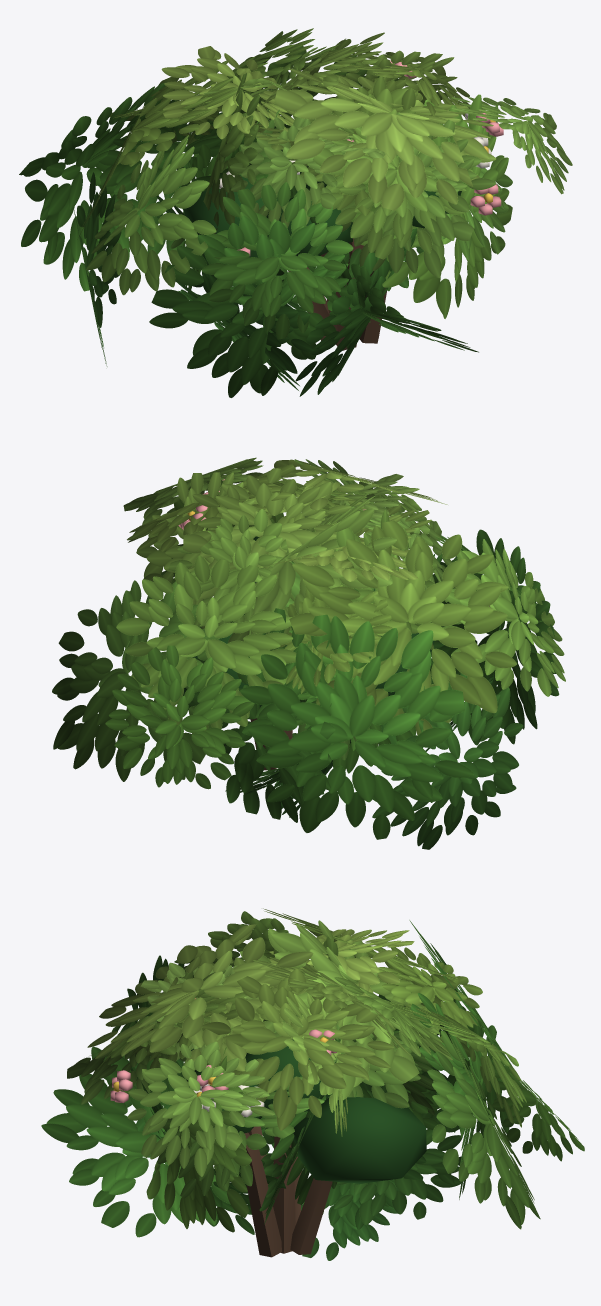
The model's file is bush_lod1.gltf.
3 views of the same model, one above another, from view 1: azimuth 30°, elevation 25°; view 2: azimuth 150°, elevation 25°; view 3: azimuth 270°, elevation 25° (orthographic).
Parts seen in each view (by area): view 1: Leaves_summer, Stems; view 2: Leaves_summer; view 3: Leaves_summer, Stems.
Boxes of the visible parts, bbox=[...] form: Leaves_summer: bbox=[19, 28, 572, 397]; Stems: bbox=[219, 60, 503, 350]; Leaves_summer: bbox=[52, 457, 565, 849]; Leaves_summer: bbox=[41, 908, 584, 1260]; Stems: bbox=[110, 998, 336, 1257].
Bounding box in the file's own units: 1.88 × 1.24 × 1.99.
5 materials, 1 textured.
